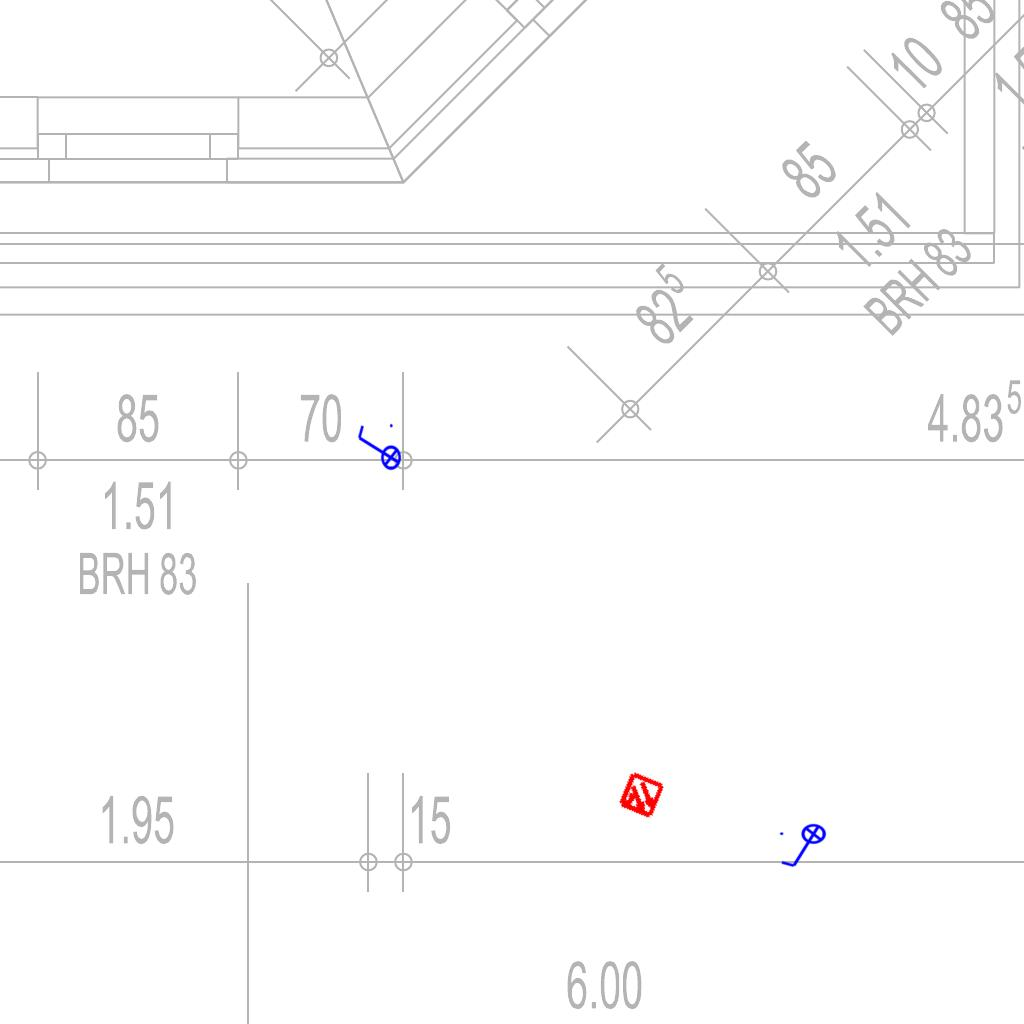Ausschalter_beleuchtet: (777, 823, 833, 871), (354, 421, 402, 477)
OT_Multisensormelder_(Kombination_RMO_WMD): (604, 759, 678, 833)
